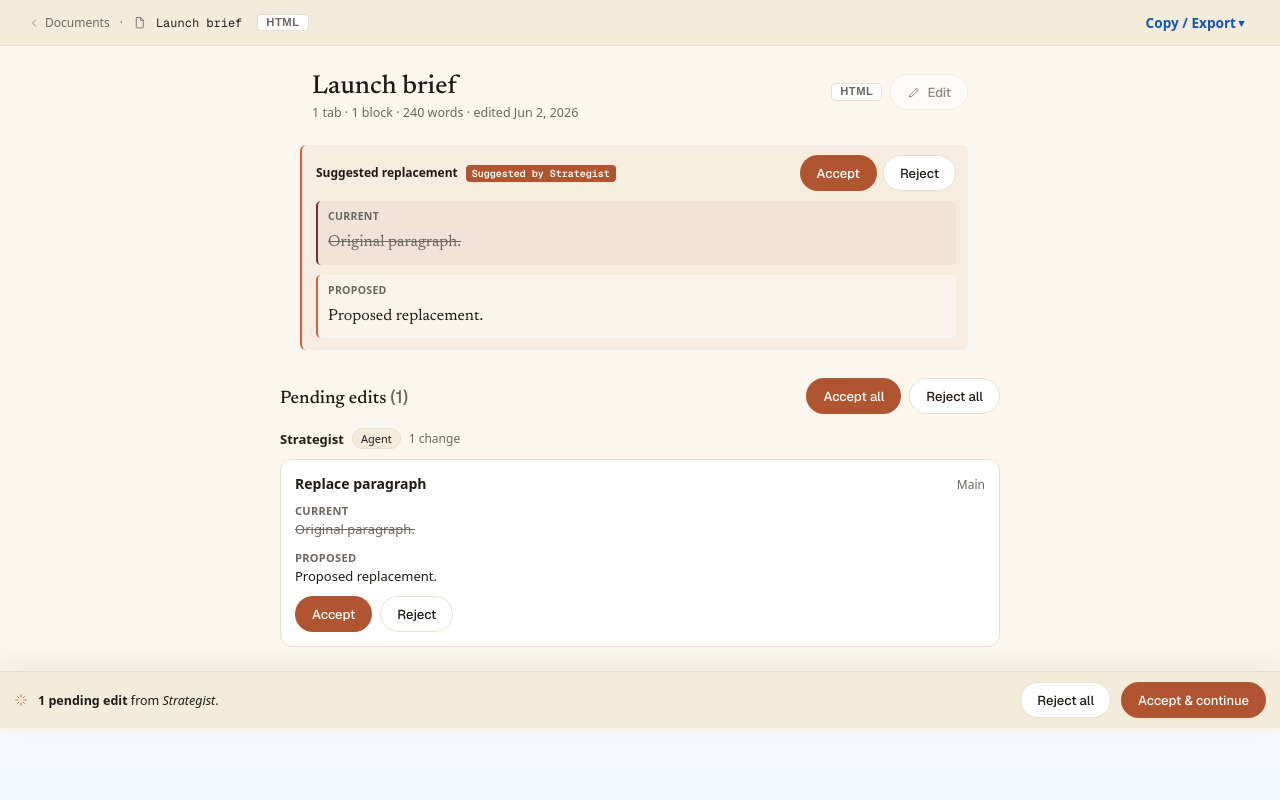
Test: DocumentDetailPage › accepts a pending edit: applies the returned bumped document and clears the panel
Check: the heading "Pending edits (1)" is shown, box [280,384,408,408]
Click the button with aria-label "Accept inline suggested replacement" at (838, 173), box [800,155,877,191]
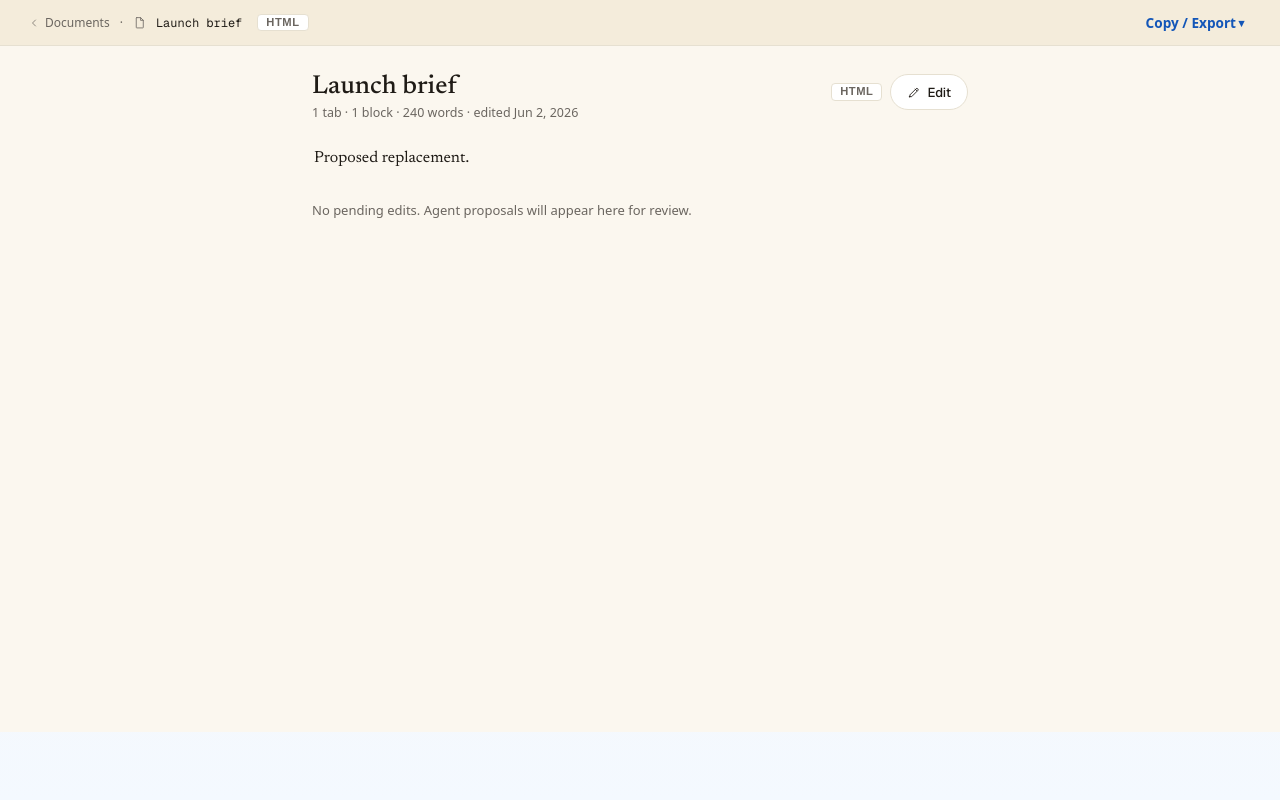
Check: the text "Proposed replacement." is shown, box [314,150,469,166]
Check: the text "No pending edits" is shown, box [312,200,692,218]
